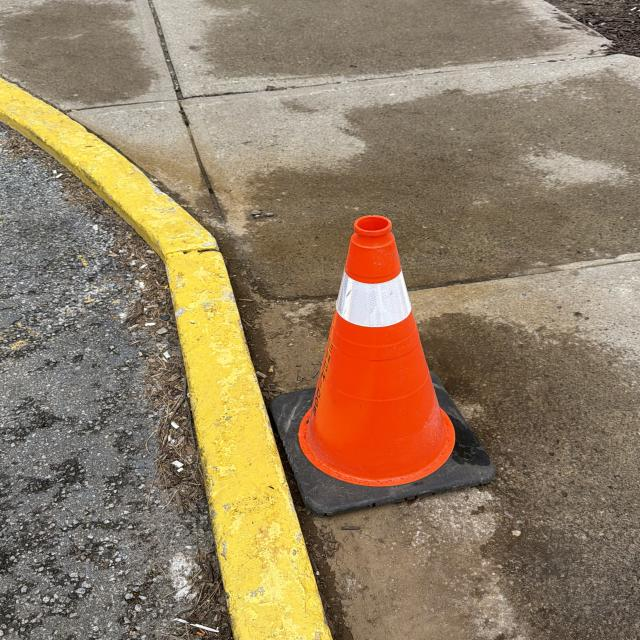Traffic Cone: (262, 214, 500, 517)
